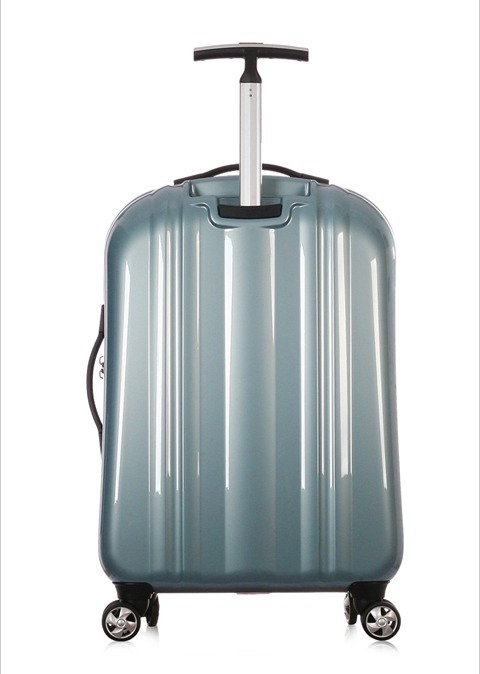luggage: (83, 41, 405, 641)
